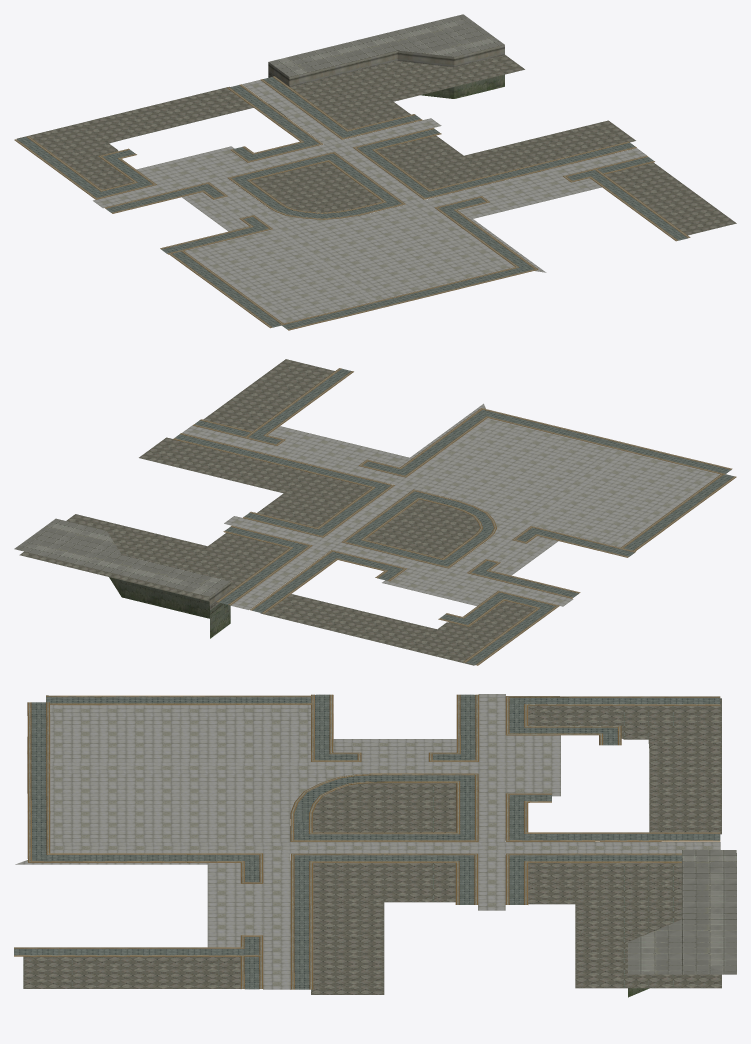
File: Yland1_dm_04 Yland1.FBX
The picture shows the model from 3 angles, top to bottom: view 1: azimuth 30°, elevation 25°; view 2: azimuth 150°, elevation 25°; view 3: azimuth 270°, elevation 25°; orthographic projection. The views are drawn at different scales.
Parts seen in each view (by area): view 1: Yland1_dm_04 Yland1; view 2: Yland1_dm_04 Yland1; view 3: Yland1_dm_04 Yland1.
Boxes of the visible parts, bbox=[...] form: Yland1_dm_04 Yland1: bbox=[14, 14, 736, 330]; Yland1_dm_04 Yland1: bbox=[14, 359, 736, 665]; Yland1_dm_04 Yland1: bbox=[14, 694, 736, 997].
Bounding box in the file's own units: 82.62 × 7.09 × 84.05.
